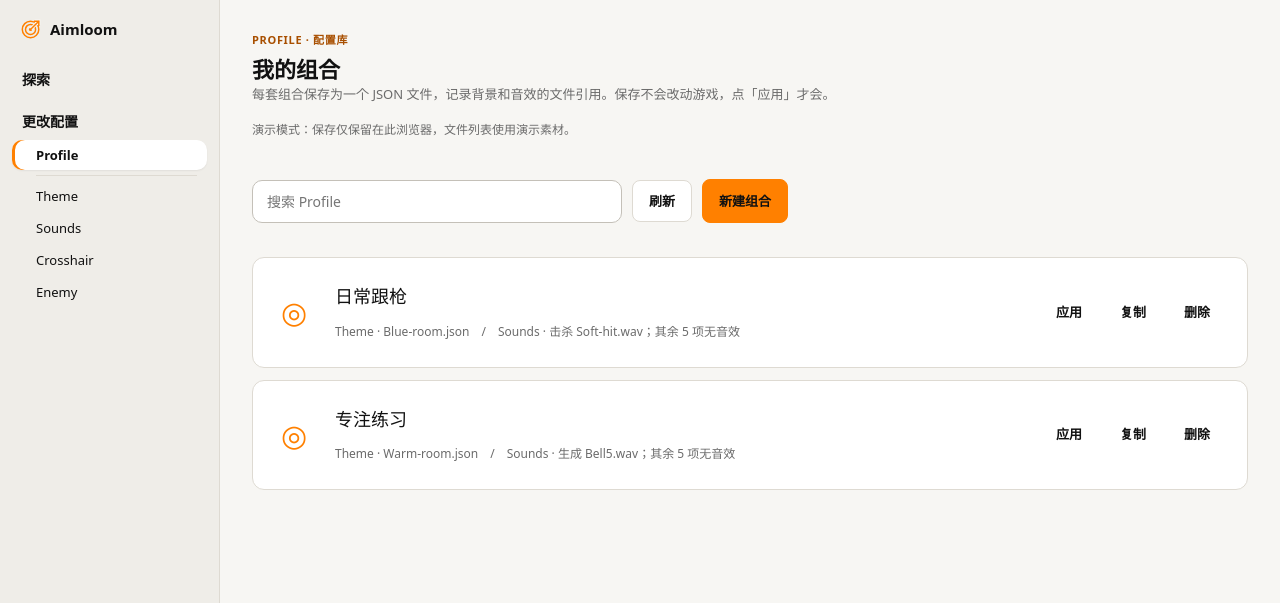
it: Explore pick errors › shows a failed pick on the idle view
Click the button "探索" at [110, 79], box [12, 62, 207, 96]
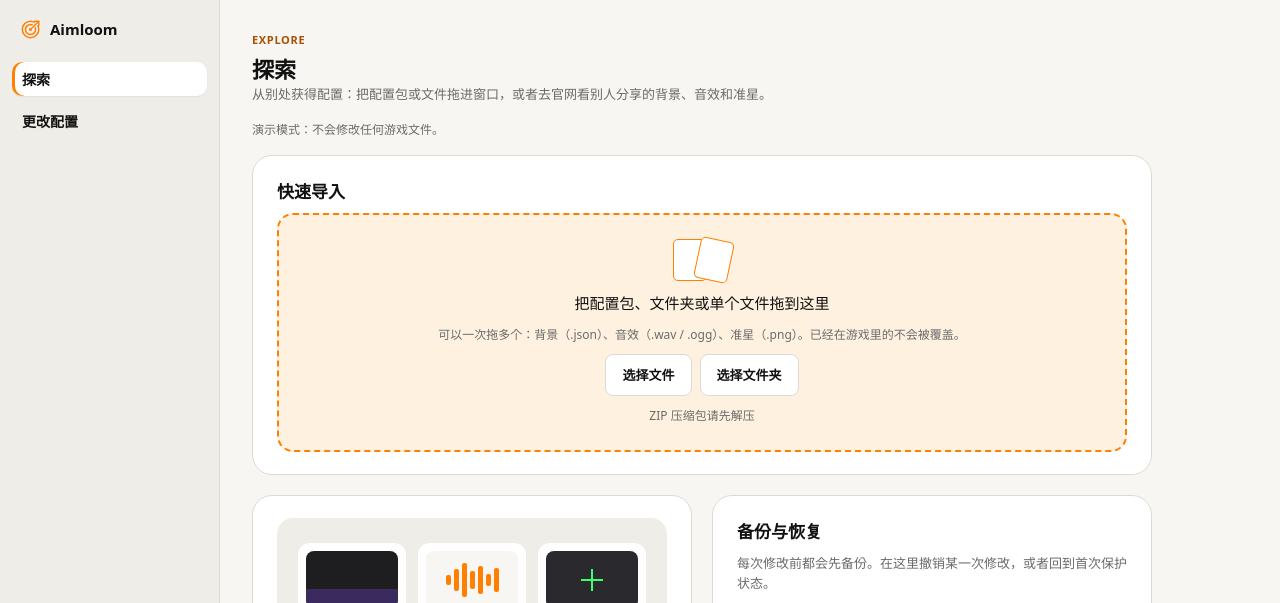
Click the button "选择文件" at [648, 375], box [606, 354, 692, 396]
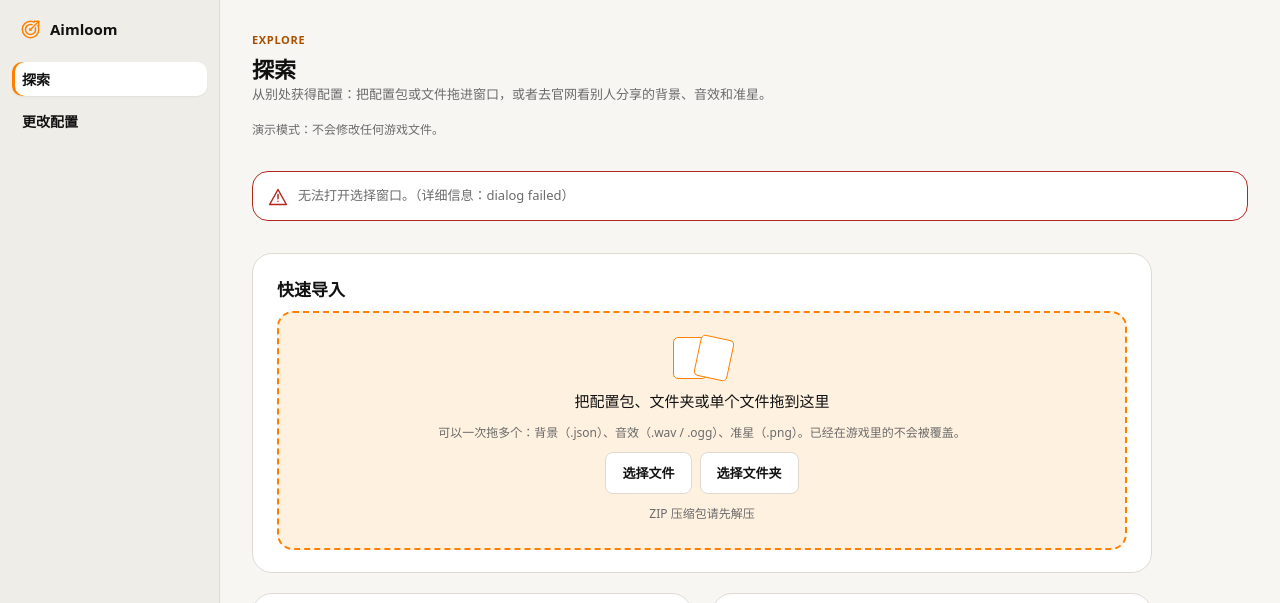
Result: the text "无法打开选择窗口。（详细信息：dialog failed）" is shown at [298, 185, 574, 206]
